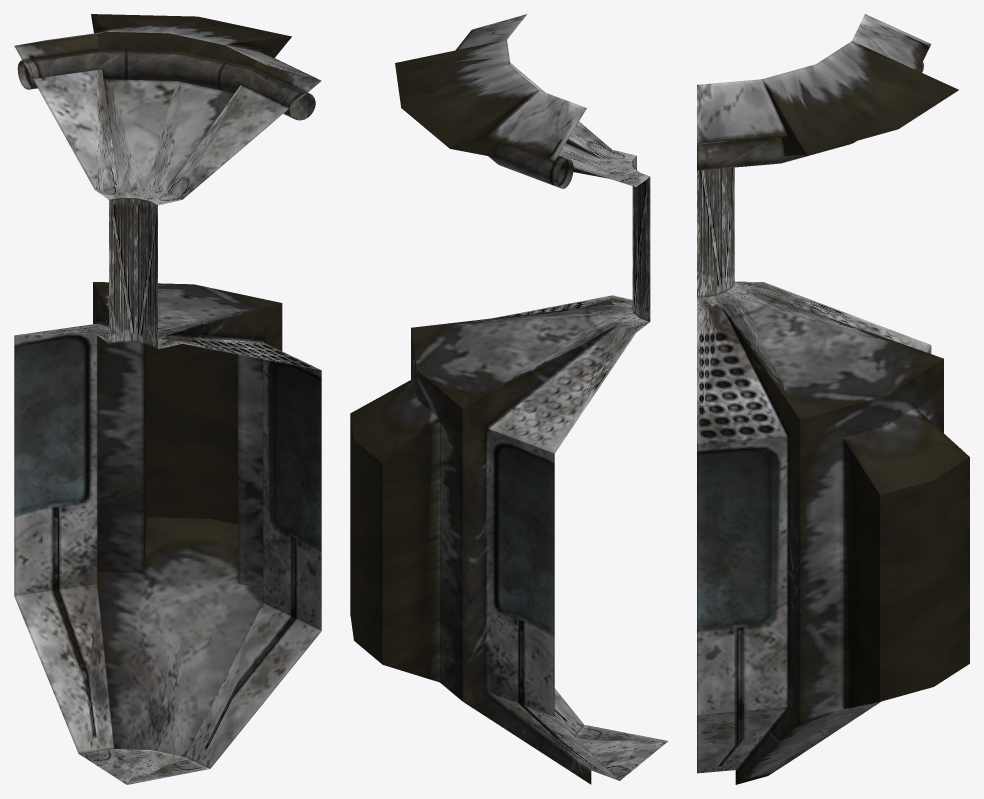
The model's file is strct_WH_Z1_wall_smallinner.fbx.
The picture shows the model from 3 angles, left to right: view 1: azimuth 30°, elevation 25°; view 2: azimuth 150°, elevation 25°; view 3: azimuth 270°, elevation 25°; orthographic projection. The views are drawn at different scales.
Visible parts, largest first — view 1: polySurface267; view 2: polySurface267; view 3: polySurface267.
Part boxes in pixels (x1=…): polySurface267: x1=14, y1=14, x2=321, y2=784; polySurface267: x1=350, y1=14, x2=668, y2=784; polySurface267: x1=697, y1=14, x2=969, y2=784.
Size of the model in its own units: 261 by 773 by 261.
